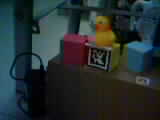duck: (86, 11, 119, 44)
